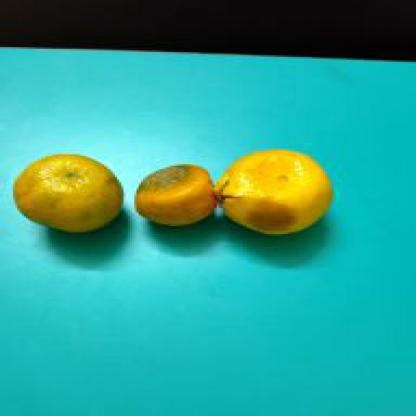orange_rotten: (212, 148, 334, 237), (10, 148, 126, 234), (132, 164, 219, 228)
